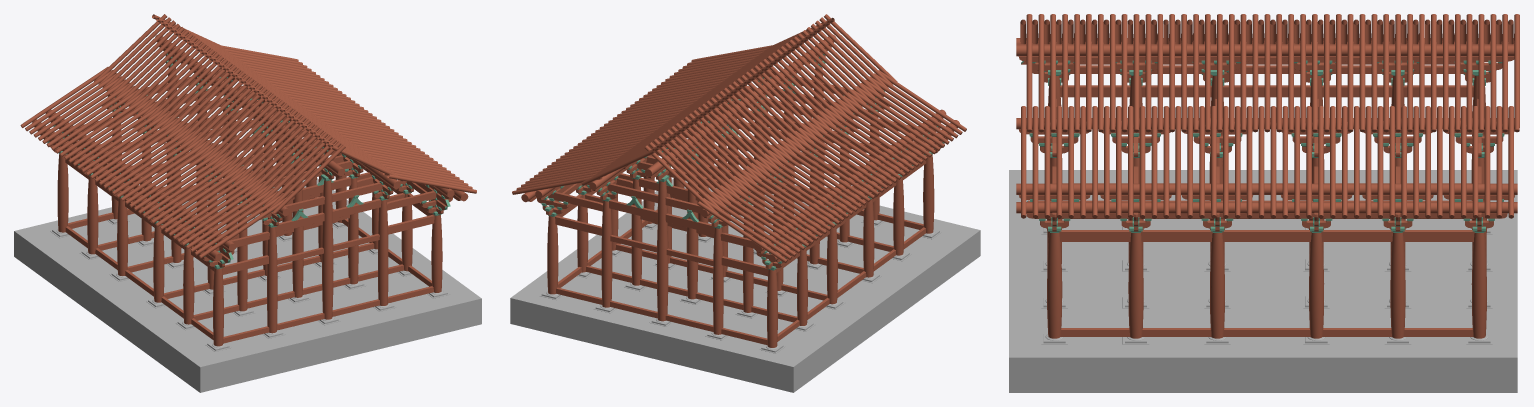
Rendered from Building_C_QuickExport.fbx.
The picture shows the model from 3 angles, left to right: view 1: azimuth 30°, elevation 25°; view 2: azimuth 150°, elevation 25°; view 3: azimuth 270°, elevation 25°; orthographic projection. The views are drawn at different scales.
Parts seen in each view (by area): view 1: FoundationPlatform, Rafters.002, Rafters.003, Rafters, Rafters.001, CrossSectoin_BuildingC|Column_Drum_7-4|Dupli|0.2.4, Beam_Bracket.009, CrossSectoin_BuildingC|Beam_Bracket.006|Dupli|9, CrossSectoin_BuildingC|Column_Drum_4-1.002|Dupli|0.2.3, CrossSectoin_BuildingC|Column_Drum_4-1.002|Dupli|0.2.2, CrossSectoin_BuildingC.004|Beam_Bracket.006|Dupli|9, CrossSectoin_BuildingC.001|Beam_Bracket.006|Dupli|9 (+22 smaller); view 2: FoundationPlatform, Rafters.002, Rafters.003, Rafters, Rafters.001, CrossSectoin_BuildingC.005|Column_Drum_7-4|Dupli|0.2.4, Beam_Bracket.009, CrossSectoin_BuildingC.005|Beam_Bracket.006|Dupli|9, CrossSectoin_BuildingC.005|Column_Drum_4-1.002|Dupli|0.2.2, CrossSectoin_BuildingC.005|Column_Drum_4-1.002|Dupli|0.2.3, CrossSectoin_BuildingC.003|Beam_Bracket.006|Dupli|9, CrossSectoin_BuildingC.003|Column_Drum_7-4|Dupli|0.2.4 (+22 smaller); view 3: FoundationPlatform, Rafters.001, Rafters, Beam_Large.009, Rafters.003, Purlin.011, Purlin.009, Purlin.012, Beam_Bracket.009, Beam_Bracket.008, CrossSectoin_BuildingC.003|Column_Drum_4-1|Dupli|0.1, CrossSectoin_BuildingC.004|Column_Drum_4-1|Dupli|0.1 (+5 smaller).
Boxes of the visible parts, x1,y1,x2,y2 form: FoundationPlatform: [14, 178, 481, 392]; Rafters.002: [20, 66, 286, 258]; Rafters.003: [94, 14, 345, 214]; Rafters: [217, 44, 476, 193]; Rafters.001: [152, 14, 402, 181]; CrossSectoin_BuildingC|Column_Drum_7-4|Dupli|0.2.4: [322, 180, 333, 319]; Beam_Bracket.009: [65, 183, 431, 339]; CrossSectoin_BuildingC|Beam_Bracket.006|Dupli|9: [223, 286, 433, 343]; CrossSectoin_BuildingC|Column_Drum_4-1.002|Dupli|0.2.3: [267, 226, 277, 333]; CrossSectoin_BuildingC|Column_Drum_4-1.002|Dupli|0.2.2: [378, 199, 388, 305]; CrossSectoin_BuildingC.004|Beam_Bracket.006|Dupli|9: [193, 264, 403, 320]; CrossSectoin_BuildingC.001|Beam_Bracket.006|Dupli|9: [164, 242, 374, 298]; FoundationPlatform: [510, 165, 980, 392]; Rafters.002: [697, 70, 966, 262]; Rafters.003: [644, 14, 897, 212]; Rafters: [512, 45, 772, 194]; Rafters.001: [581, 17, 834, 185]; CrossSectoin_BuildingC.005|Column_Drum_7-4|Dupli|0.2.4: [657, 181, 668, 321]; Beam_Bracket.009: [557, 184, 925, 341]; CrossSectoin_BuildingC.005|Beam_Bracket.006|Dupli|9: [556, 287, 767, 345]; CrossSectoin_BuildingC.005|Column_Drum_4-1.002|Dupli|0.2.2: [601, 200, 612, 307]; CrossSectoin_BuildingC.005|Column_Drum_4-1.002|Dupli|0.2.3: [713, 227, 723, 334]; CrossSectoin_BuildingC.003|Beam_Bracket.006|Dupli|9: [585, 265, 797, 322]; CrossSectoin_BuildingC.003|Column_Drum_7-4|Dupli|0.2.4: [686, 159, 698, 299]; FoundationPlatform: [1009, 170, 1517, 392]; Rafters.001: [1026, 14, 1519, 132]; Rafters: [1021, 106, 1513, 218]; Beam_Large.009: [1059, 85, 1474, 241]; Rafters.003: [1020, 19, 1513, 44]; Purlin.011: [1016, 38, 1517, 194]; Purlin.009: [1016, 45, 1514, 56]; Purlin.012: [1016, 202, 1517, 213]; Beam_Bracket.009: [1060, 183, 1473, 336]; Beam_Bracket.008: [1021, 56, 1475, 218]; CrossSectoin_BuildingC.003|Column_Drum_4-1|Dupli|0.1: [1390, 233, 1405, 338]; CrossSectoin_BuildingC.004|Column_Drum_4-1|Dupli|0.1: [1128, 233, 1143, 338].
Size of the model in its own units: 1570 by 1109 by 1804.
